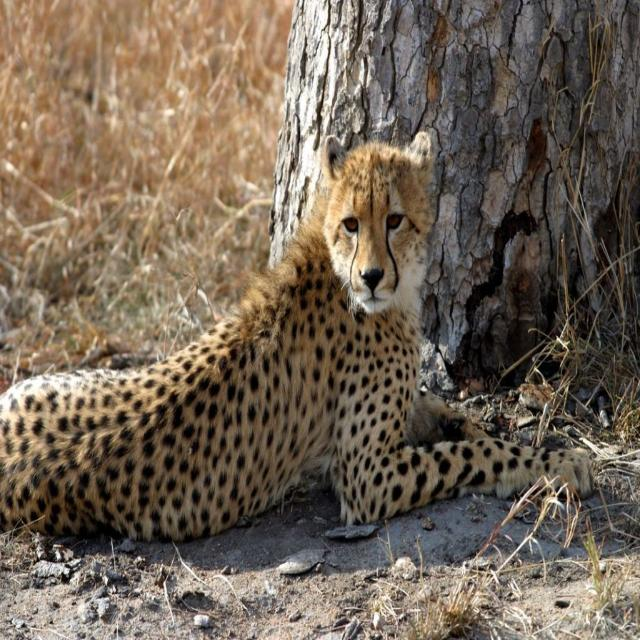Cheetah: (0, 129, 598, 545)
